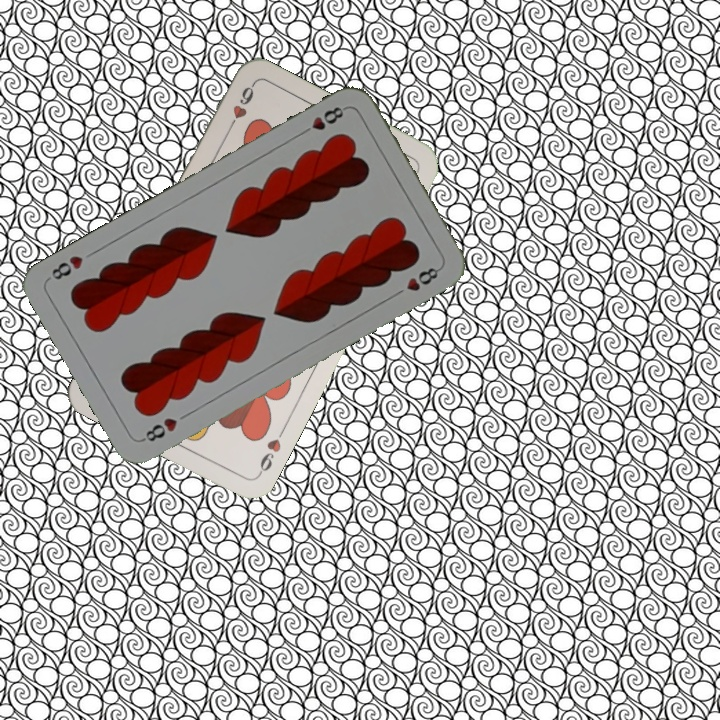H8: (296, 102, 350, 138), (137, 413, 180, 445)
H9: (223, 80, 257, 135), (254, 424, 288, 479)
